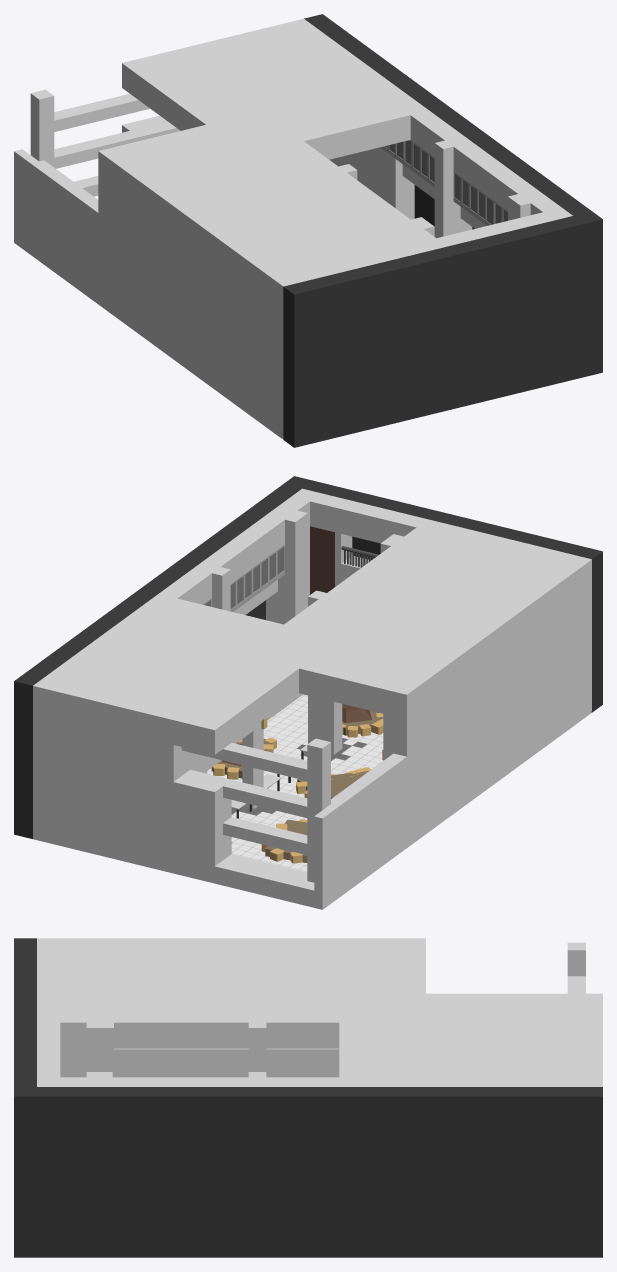
File: FEUTech Lobby Area.fbx
3 renders of one model, top to bottom at view 1: azimuth 30°, elevation 25°; view 2: azimuth 150°, elevation 25°; view 3: azimuth 270°, elevation 25°, orthographic. The views are drawn at different scales.
Parts seen in each view (by area): view 1: FEUT_Lobby_Roof, FEUT_Lobby_Outbounds1, FEUT_Lobby_Wall3, FEUT_Lobby_Outbounds, FEUT_Lobby_Wall, FEUT_Lobby_Pillar, FEUT_Lobby_Beam6, FEUT_Lobby_Pillar5, FEUT_Lobby_Beam3, FEUT_Lobby_Wall1, FEUT_Lobby_Pillar3, FEUT_Lobby_Beam2 (+1 smaller); view 2: FEUT_Lobby_Roof, FEUT_Lobby_Wall3, FEUT_Lobby_Wall1, FEUT_Lobby_Outbounds, FEUT_Lobby_Floor, FEUT_Lobby_Outbounds1, FEUT_Lobby_Pillar3, FEUT_Lobby_Wall5, FEUT_Lobby_Wall4, FEUT_Lobby_Wall, FEUT_Lobby_Pillar5, FEUT_Lobby_Beam6 (+8 smaller); view 3: FEUT_Lobby_Outbounds, FEUT_Lobby_Roof, FEUT_Lobby_Outbounds1, FEUT_Lobby_Wall3, FEUT_Lobby_Beam1, FEUT_Lobby_Pillar2, FEUT_Lobby_Pillar1, FEUT_Lobby_Divider1, FEUT_Lobby_Pillar5.
Part boxes in pixels (<box>): FEUT_Lobby_Roof: <box>98,18,572,310</box>; FEUT_Lobby_Outbounds1: <box>283,211,602,447</box>; FEUT_Lobby_Wall3: <box>14,149,283,438</box>; FEUT_Lobby_Outbounds: <box>304,14,591,229</box>; FEUT_Lobby_Wall: <box>329,147,414,219</box>; FEUT_Lobby_Pillar: <box>434,140,472,238</box>; FEUT_Lobby_Beam6: <box>54,94,149,131</box>; FEUT_Lobby_Pillar5: <box>30,89,54,167</box>; FEUT_Lobby_Beam3: <box>54,131,138,168</box>; FEUT_Lobby_Wall1: <box>122,115,180,140</box>; FEUT_Lobby_Pillar3: <box>508,189,548,220</box>; FEUT_Lobby_Beam2: <box>34,160,98,209</box>; FEUT_Lobby_Roof: <box>33,488,591,754</box>; FEUT_Lobby_Wall3: <box>314,585,590,909</box>; FEUT_Lobby_Wall1: <box>51,715,231,883</box>; FEUT_Lobby_Outbounds: <box>14,484,301,838</box>; FEUT_Lobby_Floor: <box>207,694,383,872</box>; FEUT_Lobby_Outbounds1: <box>284,476,602,712</box>; FEUT_Lobby_Pillar3: <box>266,506,307,624</box>; FEUT_Lobby_Wall5: <box>215,854,314,907</box>; FEUT_Lobby_Wall4: <box>310,526,591,718</box>; FEUT_Lobby_Wall: <box>33,710,51,843</box>; FEUT_Lobby_Pillar5: <box>307,738,330,882</box>; FEUT_Lobby_Beam6: <box>181,742,307,780</box>; FEUT_Lobby_Outbounds: <box>37,1087,602,1257</box>; FEUT_Lobby_Roof: <box>37,938,602,1086</box>; FEUT_Lobby_Outbounds1: <box>14,938,36,1257</box>; FEUT_Lobby_Wall3: <box>114,1061,339,1077</box>; FEUT_Lobby_Beam1: <box>114,1048,339,1061</box>; FEUT_Lobby_Pillar2: <box>86,1014,113,1077</box>; FEUT_Lobby_Pillar1: <box>248,1015,266,1071</box>; FEUT_Lobby_Divider1: <box>60,1048,86,1077</box>; FEUT_Lobby_Pillar5: <box>567,942,585,976</box>.
Size of the model in its own units: 111 by 52.76 by 175.
Materials: 13 (1 with a texture image).
